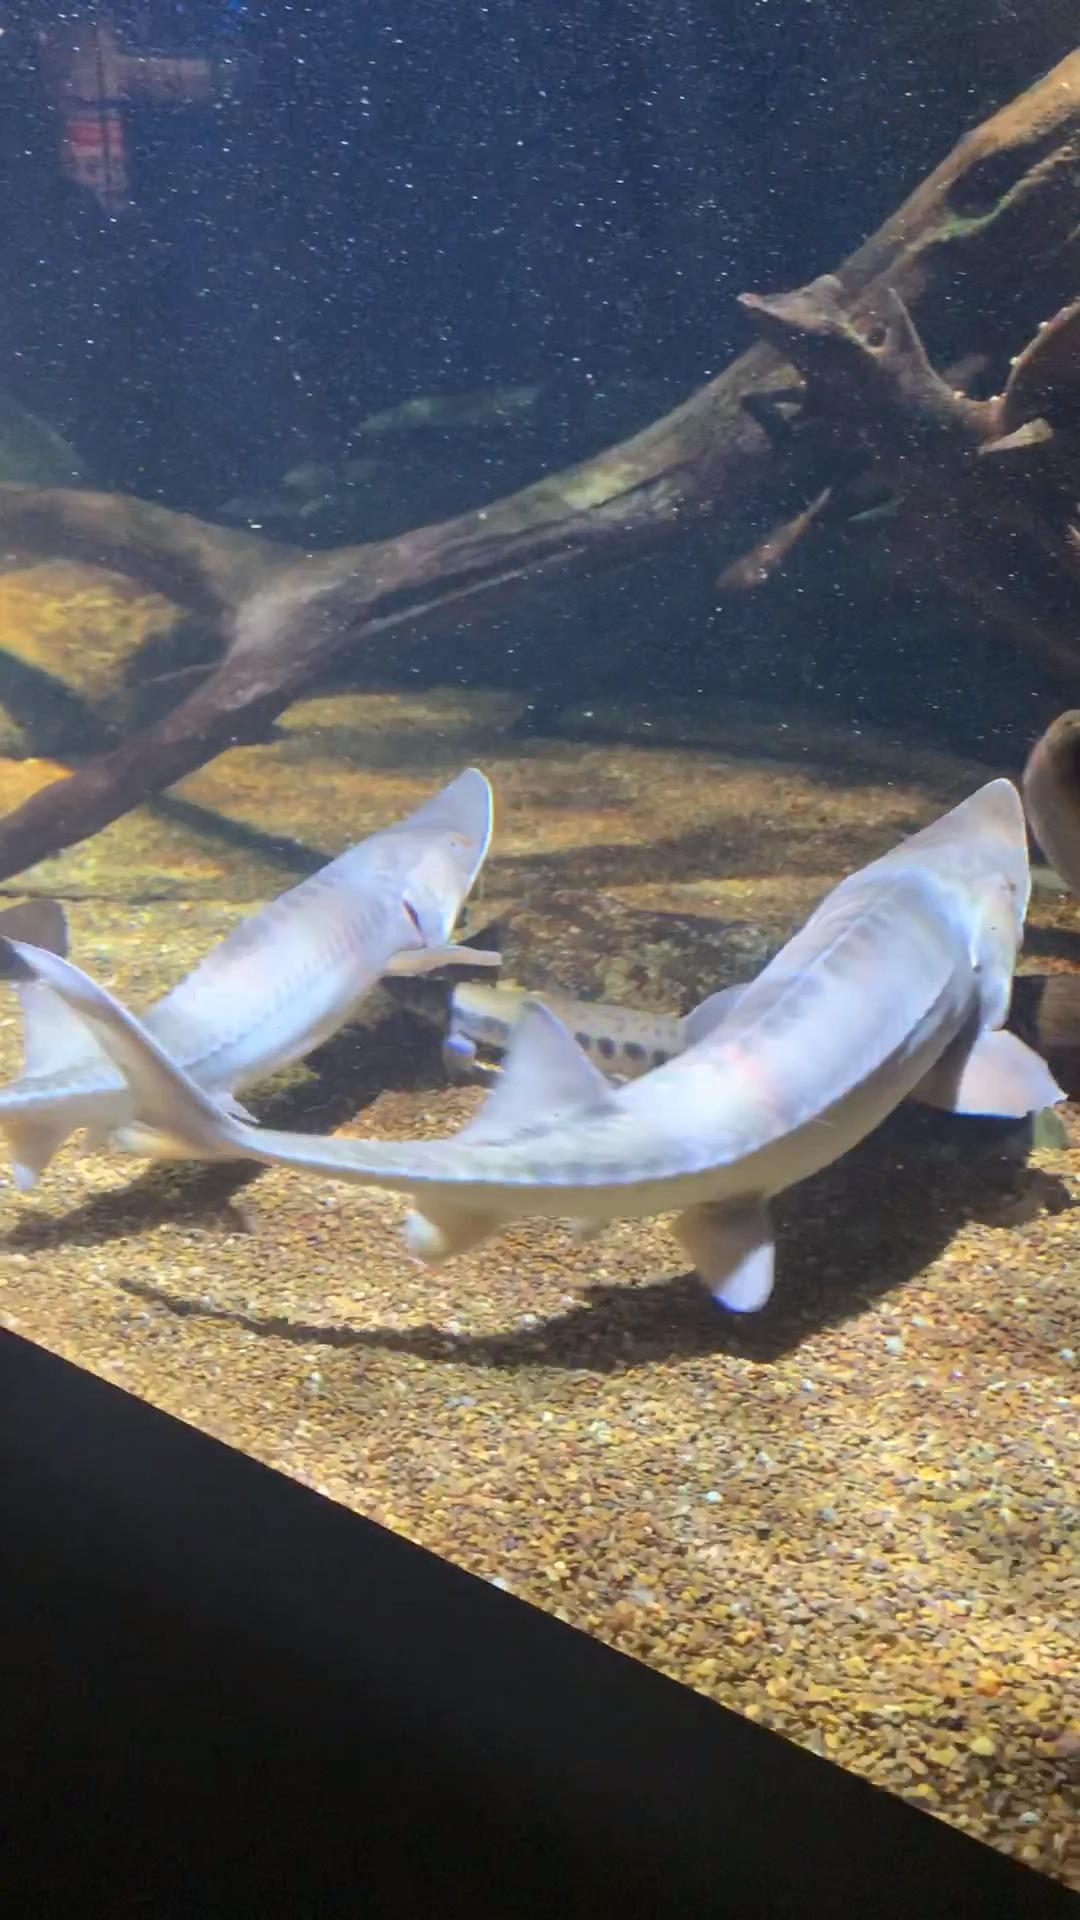shark: (0, 773, 1073, 1323), (0, 760, 512, 1203)
